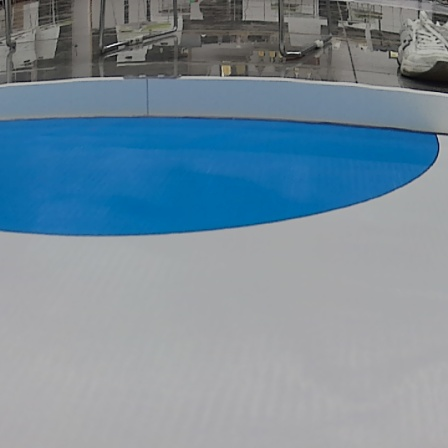blue_base: (1, 115, 441, 238)
